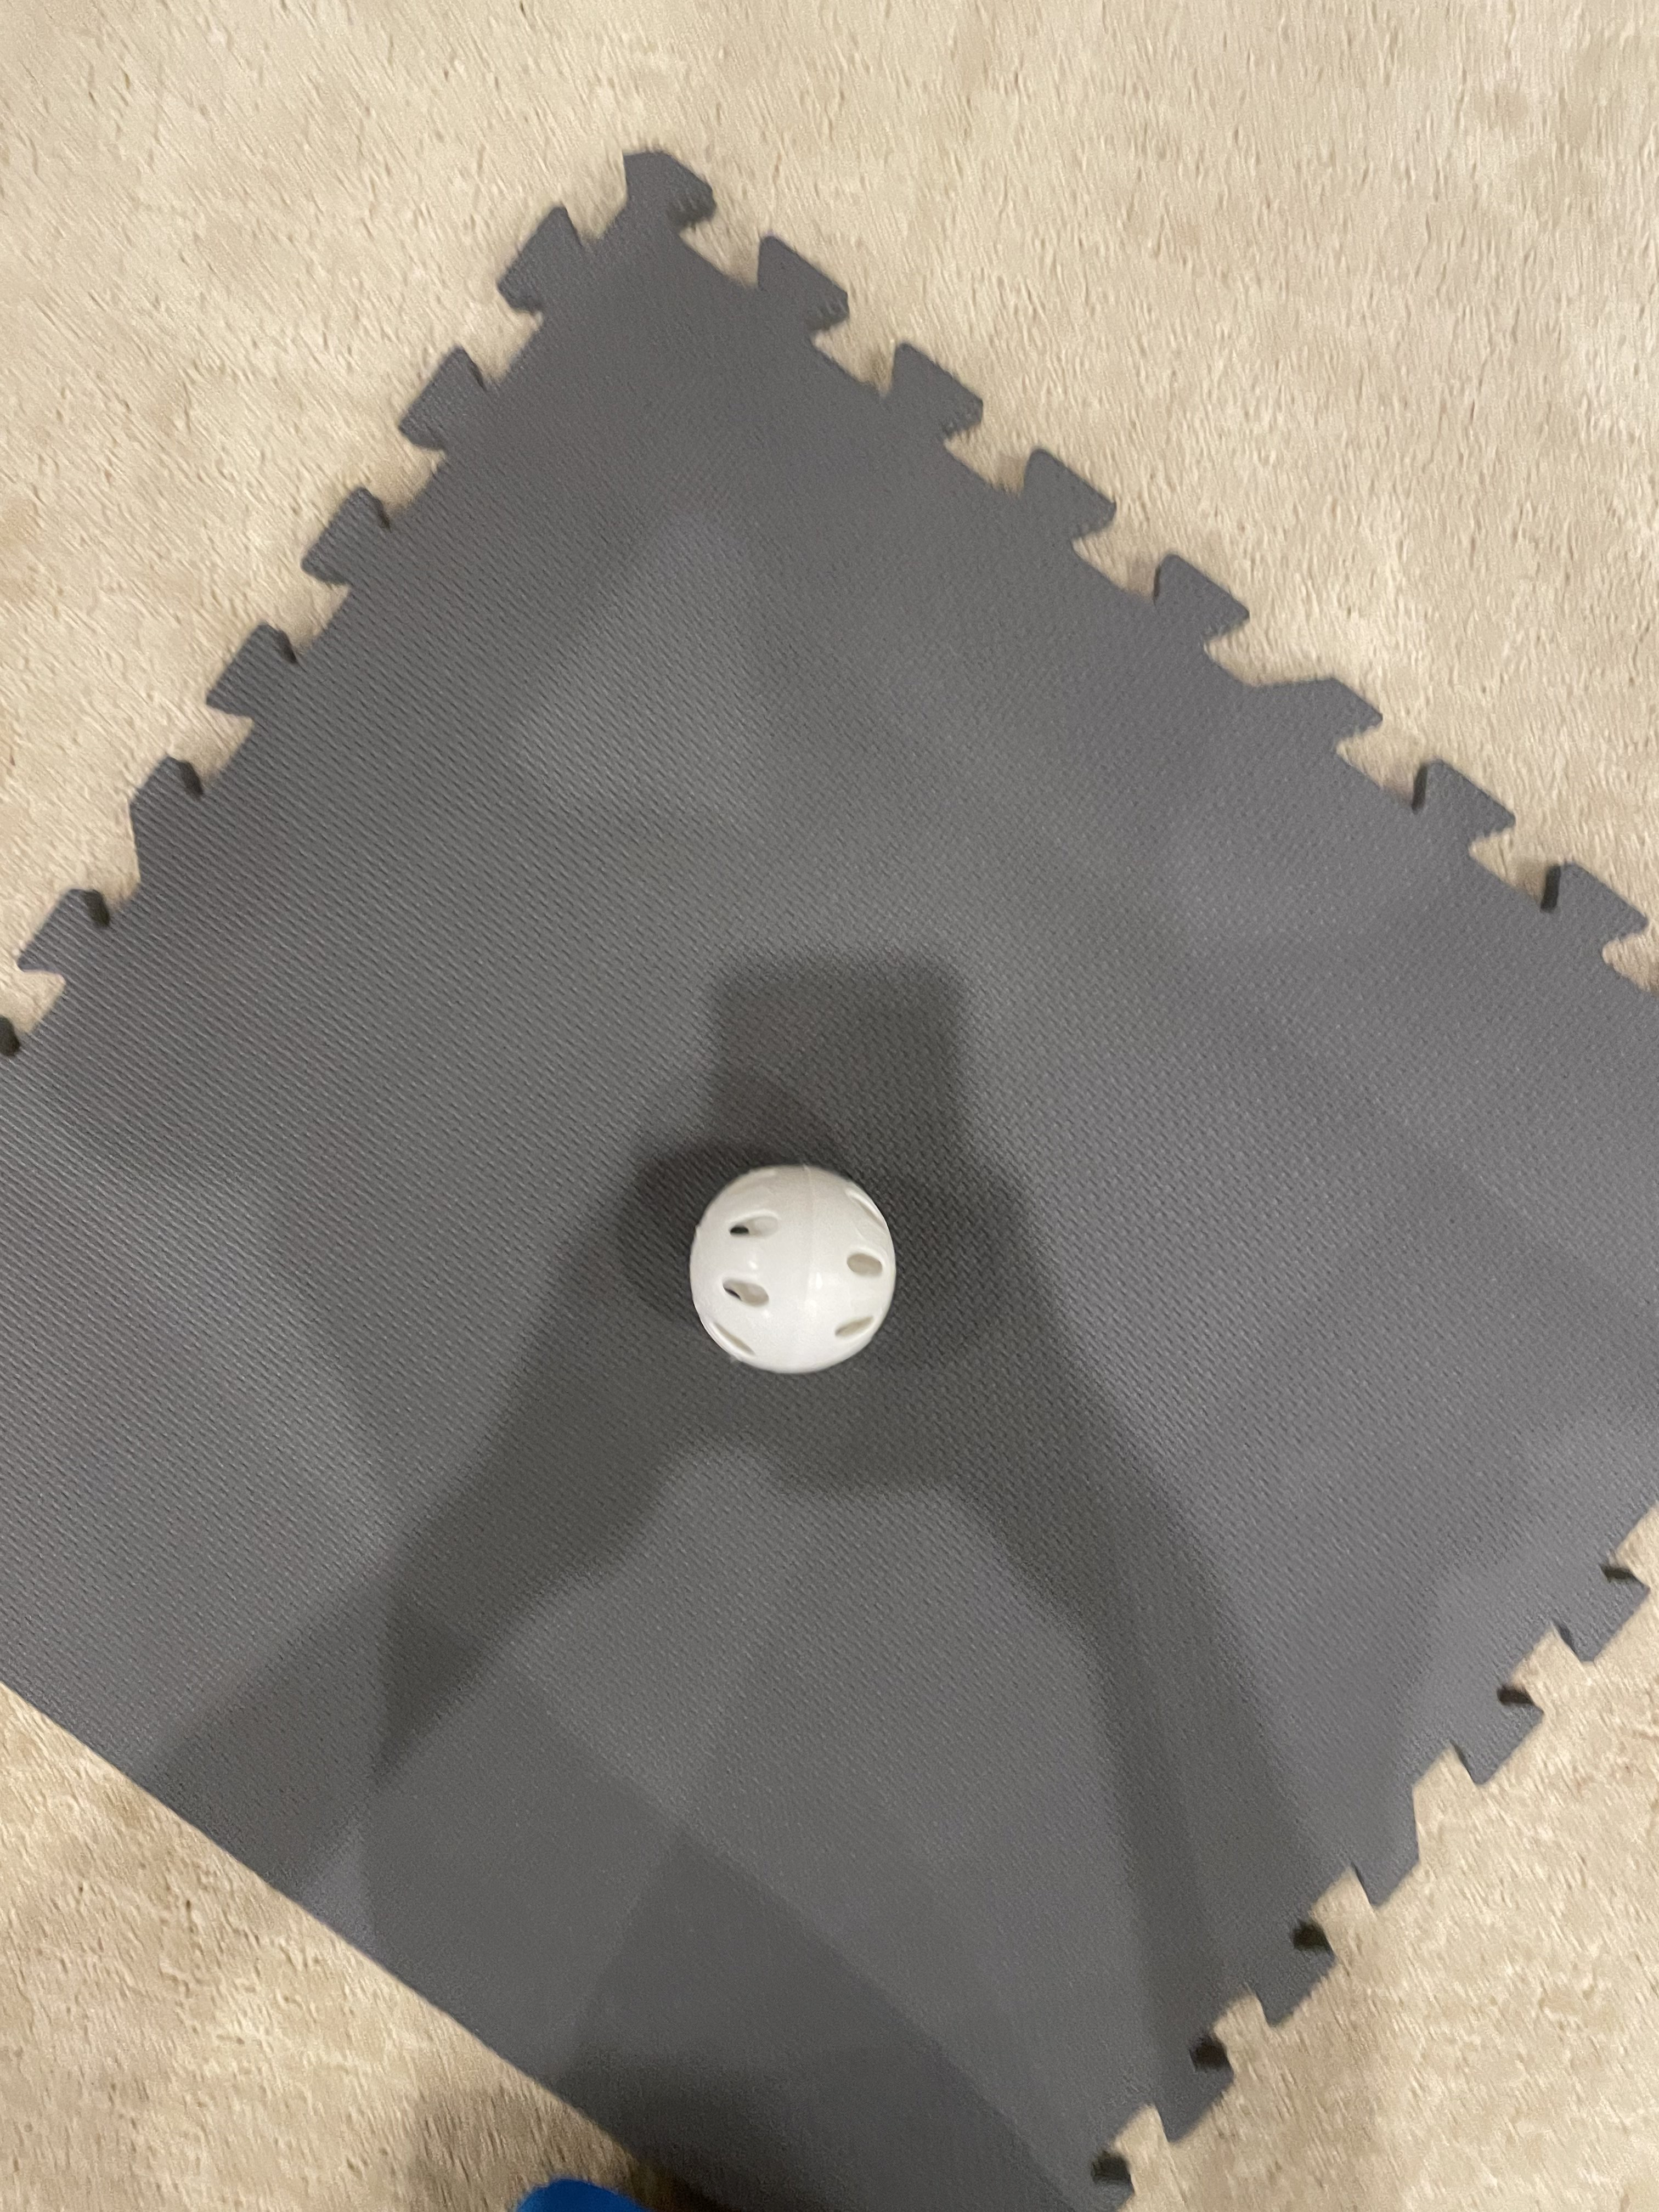ball: (652, 1115, 939, 1404)
